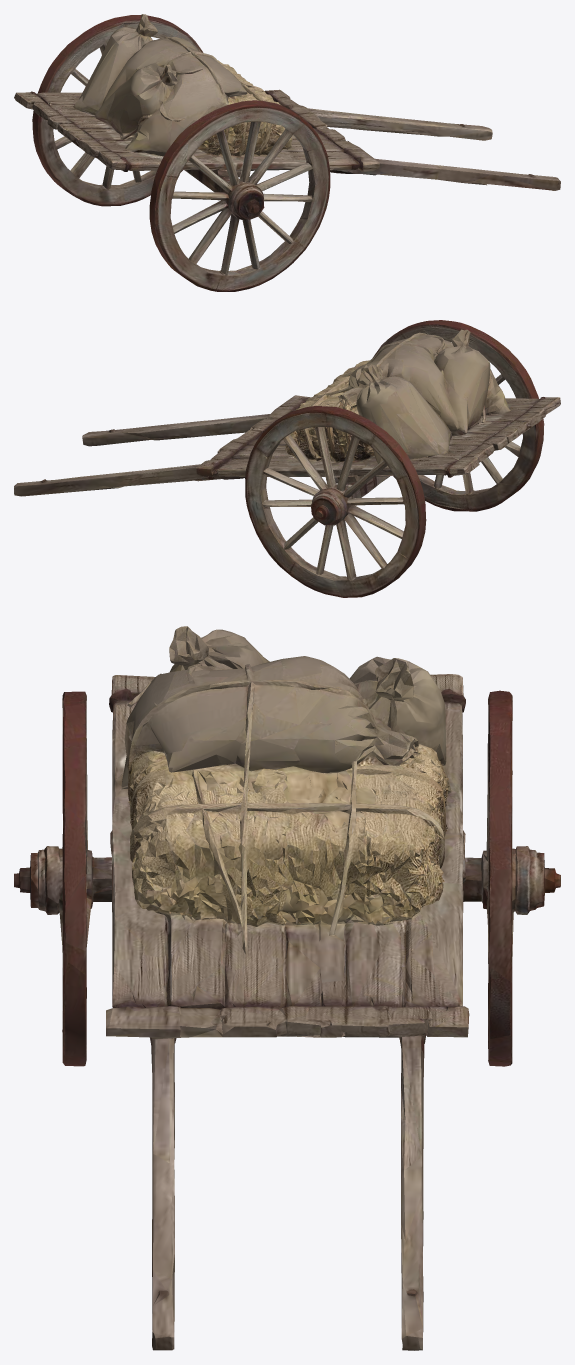
File: R_arava.glb
3 renders of one model, top to bottom at view 1: azimuth 30°, elevation 25°; view 2: azimuth 150°, elevation 25°; view 3: azimuth 270°, elevation 25°, orthographic. The views are drawn at different scales.
Parts seen in each view (by area): view 1: Mesh_0; view 2: Mesh_0; view 3: Mesh_0.
Boxes of the visible parts, <box> form: Mesh_0: <box>14,14,560,291</box>; Mesh_0: <box>14,320,560,597</box>; Mesh_0: <box>14,626,560,1350</box>.
Size of the model in its own units: 1.9 by 0.8252 by 1.07.
1 material, 1 textured.
